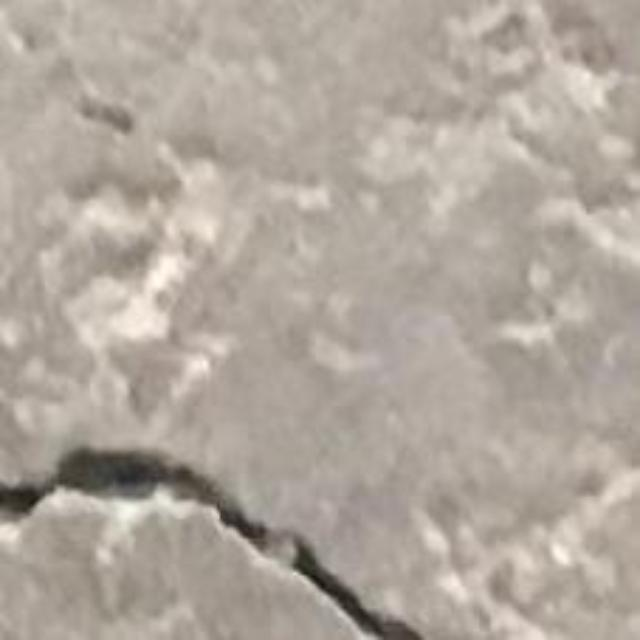crack: (0, 449, 420, 639)
